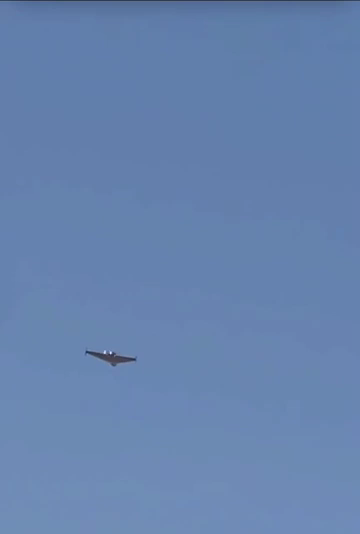shahed: (83, 347, 137, 368)
